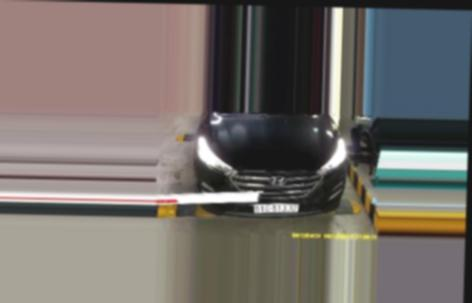License_Plate: (252, 201, 301, 216)
